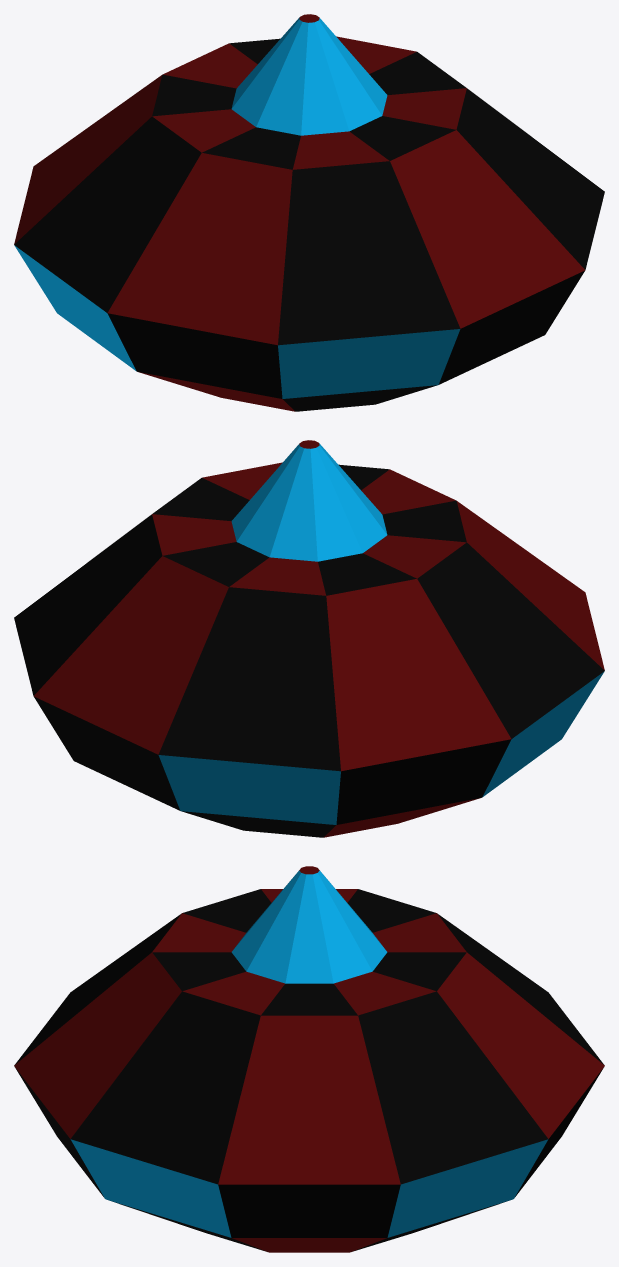
Rendered from Enemy2.fbx.
3 renders of one model, top to bottom at view 1: azimuth 30°, elevation 25°; view 2: azimuth 150°, elevation 25°; view 3: azimuth 270°, elevation 25°, orthographic. The views are drawn at different scales.
Parts seen in each view (by area): view 1: Cone; view 2: Cone; view 3: Cone.
Part boxes in pixels (bbox=[...]): Cone: bbox=[14, 14, 604, 411]; Cone: bbox=[14, 440, 604, 837]; Cone: bbox=[14, 866, 604, 1252].
Bounding box in the file's own units: 234 × 152 × 246.
